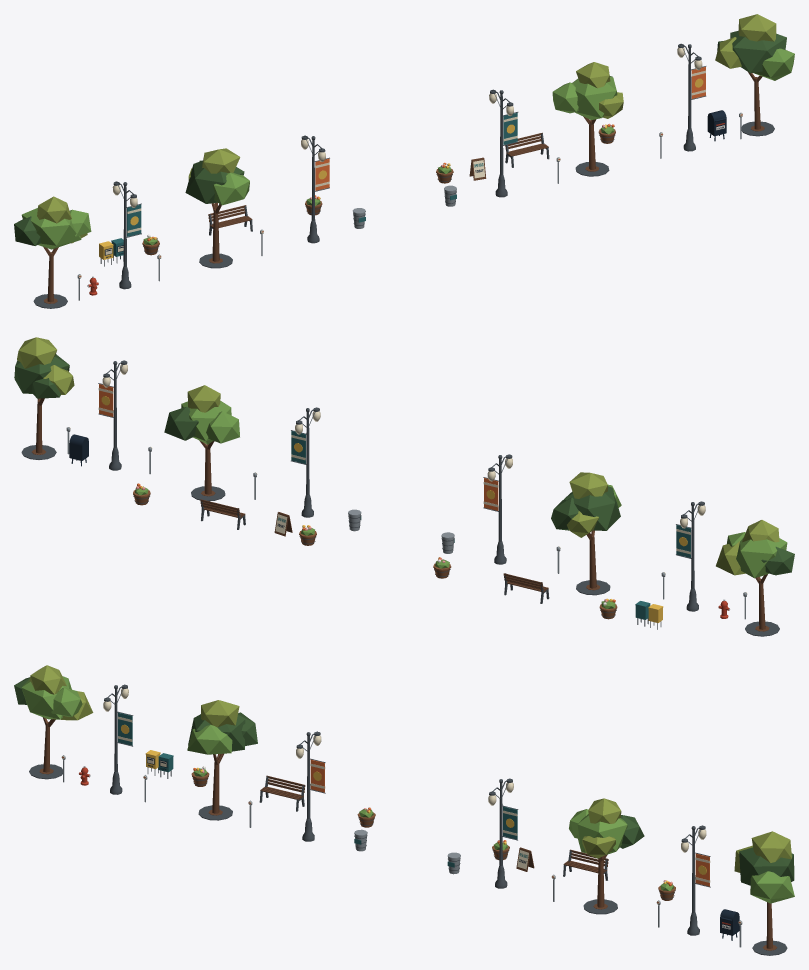
File: Lobby_Frontage.fbx
3 views of the same model, one above another, from view 1: azimuth 30°, elevation 25°; view 2: azimuth 150°, elevation 25°; view 3: azimuth 330°, elevation 25° (orthographic). The views are drawn at different scales.
Parts seen in each view (by area): view 1: Decor, DecorNeonCream; view 2: Decor, DecorNeonCream; view 3: Decor, DecorNeonCream.
Boxes of the visible parts, x1=… form: Decor: x1=14, y1=14, x2=794, y2=308; DecorNeonCream: x1=112, y1=47, x2=702, y2=207; Decor: x1=14, y1=337, x2=794, y2=636; DecorNeonCream: x1=102, y1=364, x2=705, y2=528; Decor: x1=14, y1=665, x2=794, y2=955; DecorNeonCream: x1=103, y1=688, x2=706, y2=852.
Size of the model in its own units: 135 by 19.08 by 14.9.
